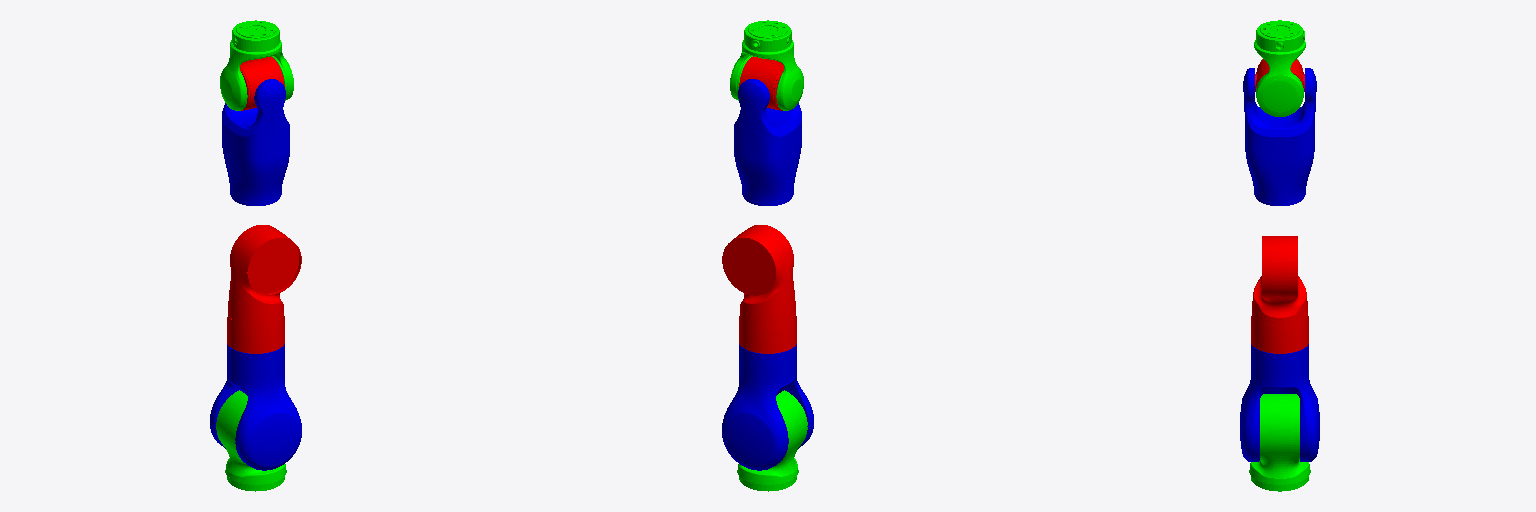
The robot description file, URDF, robot "tj_fx_right_arm":
<?xml version='1.0' encoding='utf-8'?>
<robot name="tj_fx_right_arm">
  <link name="Base_R">
    <inertial>
      <origin xyz="0.00032267 4.798E-05 0.04066353" rpy="0 0 0" />
      <mass value="1.1962" />
      <inertia ixx="0.00107329" ixy="-1.68E-06" ixz="-1.05E-05" iyy="0.00107003" iyz="-3.43E-06" izz="0.00127315" />
    </inertial>
    <visual>
      <origin xyz="0 0 0" rpy="0 0 0" />
      <geometry>
        <mesh filename="package://daimon_tj_fx_description/meshes/right/Base_R.STL" />
      </geometry>
      <material name="">
        <color rgba="1 0 0 1" />
      </material>
    </visual>
    <collision>
      <origin xyz="0 0 0" rpy="0 0 0" />
      <geometry>
        <mesh filename="package://daimon_tj_fx_description/meshes/right/Base_R.STL" />
      </geometry>
    </collision>
  </link>
  <link name="Link1_R">
    <inertial>
      <origin xyz="0.00002347 0.00557150 -0.03075998" rpy="0 0 0" />
      <mass value="1.9705" />
      <inertia ixx="0.00492293" ixy="0.00000550" ixz="0.00000193" iyy="0.00526513" iyz="0.00033232" izz="0.00188107" />
    </inertial>
    <visual>
      <origin xyz="0 0 0" rpy="0 0 0" />
      <geometry>
        <mesh filename="package://daimon_tj_fx_description/meshes/right/Link1_R.STL" />
      </geometry>
      <material name="">
        <color rgba="0 1 0 1" />
      </material>
    </visual>
    <collision>
      <origin xyz="0 0 0" rpy="0 0 0" />
      <geometry>
        <mesh filename="package://daimon_tj_fx_description/meshes/right/Link1_R.STL" />
      </geometry>
    </collision>
  </link>
  <joint name="Joint1_R" type="revolute">
    <origin xyz="0 0 0.1745" rpy="0 0 0" />
    <parent link="Base_R" />
    <child link="Link1_R" />
    <axis xyz="0 0 1" />
    <limit lower="-3.1067" upper="3.1067" effort="108" velocity="3.1416" />
  </joint>
  <link name="Link2_R">
    <inertial>
      <origin xyz="0.00013483 0.06170460 0.00950639" rpy="0 0 0" />
      <mass value="2.24398" />
      <inertia ixx="0.01194933" ixy="0.00000336" ixz="0.00000091" iyy="0.00361581" iyz="-0.00132804" izz="0.01098356" />
    </inertial>
    <visual>
      <origin xyz="0 0 0" rpy="0 0 0" />
      <geometry>
        <mesh filename="package://daimon_tj_fx_description/meshes/right/Link2_R.STL" />
      </geometry>
      <material name="">
        <color rgba="0 0 1 1" />
      </material>
    </visual>
    <collision>
      <origin xyz="0 0 0" rpy="0 0 0" />
      <geometry>
        <mesh filename="package://daimon_tj_fx_description/meshes/right/Link2_R.STL" />
      </geometry>
    </collision>
  </link>
  <joint name="Joint2_R" type="revolute">
    <origin xyz="0 0 0" rpy="1.5708 0 0" />
    <parent link="Link1_R" />
    <child link="Link2_R" />
    <axis xyz="0 0 1" />
    <limit lower="-2.0944" upper="2.0944" effort="108" velocity="3.1416" />
  </joint>
  <link name="Link3_R">
    <inertial>
      <origin xyz="0.00968562 0.00246599 -0.04627302" rpy="0 0 0" />
      <mass value="1.9242" />
      <inertia ixx="0.00718224" ixy="0.00004413" ixz="0.00089552" iyy="0.00762563" iyz="0.00022096" izz="0.00178597" />
    </inertial>
    <visual>
      <origin xyz="0 0 0" rpy="0 0 0" />
      <geometry>
        <mesh filename="package://daimon_tj_fx_description/meshes/right/Link3_R.STL" />
      </geometry>
      <material name="">
        <color rgba="1 0 0 1" />
      </material>
    </visual>
    <collision>
      <origin xyz="0 0 0" rpy="0 0 0" />
      <geometry>
        <mesh filename="package://daimon_tj_fx_description/meshes/right/Link3_R.STL" />
      </geometry>
    </collision>
  </link>
  <joint name="Joint3_R" type="revolute">
    <origin xyz="0 0.287 0" rpy="-1.5708 0 0" />
    <parent link="Link2_R" />
    <child link="Link3_R" />
    <axis xyz="0 0 1" />
    <limit lower="-3.1067" upper="3.1067" effort="66" velocity="3.1416" />
  </joint>
  <link name="Link4_R">
    <inertial>
      <origin xyz="0.00850411 -0.04718223 0.00941509" rpy="0 0 0" />
      <mass value="1.6085" />
      <inertia ixx="0.00580480" ixy="-0.00066669" ixz="-0.00012722" iyy="0.00223807" iyz="0.00070523" izz="0.00533060" />
    </inertial>
    <visual>
      <origin xyz="0 0 0" rpy="0 0 0" />
      <geometry>
        <mesh filename="package://daimon_tj_fx_description/meshes/right/Link4_R.STL" />
      </geometry>
      <material name="">
        <color rgba="0 1 0 1" />
      </material>
    </visual>
    <collision>
      <origin xyz="0 0 0" rpy="0 0 0" />
      <geometry>
        <mesh filename="package://daimon_tj_fx_description/meshes/right/Link4_R.STL" />
      </geometry>
    </collision>
  </link>
  <joint name="Joint4_R" type="revolute">
    <origin xyz="0.018 0 0" rpy="-1.5708 0 3.1416" />
    <parent link="Link3_R" />
    <child link="Link4_R" />
    <axis xyz="0 0 1" />
    <limit lower="-2.5307" upper="1.0472" effort="66" velocity="3.1416" />
  </joint>
  <link name="Link5_R">
    <inertial>
      <origin xyz="-0.00051127 -0.00101064 -0.11271739" rpy="0 0 0" />
      <mass value="2.0883" />
      <inertia ixx="0.00626603" ixy="0.00004009" ixz="-0.00005338" iyy="0.00564387" iyz="0.00006193" izz="0.00243632" />
    </inertial>
    <visual>
      <origin xyz="0 0 0" rpy="0 0 0" />
      <geometry>
        <mesh filename="package://daimon_tj_fx_description/meshes/right/Link5_R.STL" />
      </geometry>
      <material name="">
        <color rgba="0 0 1 1" />
      </material>
    </visual>
    <collision>
      <origin xyz="0 0 0" rpy="0 0 0" />
      <geometry>
        <mesh filename="package://daimon_tj_fx_description/meshes/right/Link5_R.STL" />
      </geometry>
    </collision>
  </link>
  <joint name="Joint5_R" type="revolute">
    <origin xyz="0.018 -0.314 0" rpy="-1.5708 0 3.1416" />
    <parent link="Link4_R" />
    <child link="Link5_R" />
    <axis xyz="0 0 1" />
    <limit lower="-3.1067" upper="3.1067" effort="18" velocity="3.1416" />
  </joint>
  <link name="Link6_R">
    <inertial>
      <origin xyz="0.00032659 -0.00531336 0.00030182" rpy="0 0 0" />
      <mass value="0.72496" />
      <inertia ixx="0.00046040" ixy="-0.00000189" ixz="-0.00000083" iyy="0.00051716" iyz="-0.00000346" izz="0.00042521" />
    </inertial>
    <visual>
      <origin xyz="0 0 0" rpy="0 0 0" />
      <geometry>
        <mesh filename="package://daimon_tj_fx_description/meshes/right/Link6_R.STL" />
      </geometry>
      <material name="">
        <color rgba="1 0 0 1" />
      </material>
    </visual>
    <collision>
      <origin xyz="0 0 0" rpy="0 0 0" />
      <geometry>
        <mesh filename="package://daimon_tj_fx_description/meshes/right/Link6_R.STL" />
      </geometry>
    </collision>
  </link>
  <joint name="Joint6_R" type="revolute">
    <origin xyz="0 0 0" rpy="1.5708 -1.5708 0" />
    <parent link="Link5_R" />
    <child link="Link6_R" />
    <axis xyz="0 0 1" />
    <limit lower="-1.0472" upper="1.0472" effort="18" velocity="3.1416" />
  </joint>
  <link name="Link7_R">
    <inertial>
      <origin xyz="-0.00009108 -0.03153255 0.00889371" rpy="0 0 0" />
      <mass value="0.68606" />
      <inertia ixx="0.00173687" ixy="-0.00000345" ixz="-0.00000116" iyy="0.00089035" iyz="0.00030680" izz="0.00139406" />
    </inertial>
    <visual>
      <origin xyz="0 0 0" rpy="0 0 0" />
      <geometry>
        <mesh filename="package://daimon_tj_fx_description/meshes/right/Link7_R.STL" />
      </geometry>
      <material name="">
        <color rgba="0 1 0 1" />
      </material>
    </visual>
    <collision>
      <origin xyz="0 0 0" rpy="0 0 0" />
      <geometry>
        <mesh filename="package://daimon_tj_fx_description/meshes/right/Link7_R.STL" />
      </geometry>
    </collision>
  </link>
  <joint name="Joint7_R" type="revolute">
    <origin xyz="0 0 0" rpy="1.5708 -1.5708 0" />
    <parent link="Link6_R" />
    <child link="Link7_R" />
    <axis xyz="0 0 1" />
    <limit lower="-1.5708" upper="1.5708" effort="18" velocity="3.1416" />
  </joint>
  <link name="ee_link_R" />
  <joint name="ee_fixed_joint_R" type="fixed">
    <origin xyz="0 -0.095 0" rpy="0 0 0" />
    <parent link="Link7_R" />
    <child link="ee_link_R" />
  </joint>
</robot>

--- Render facts (derived) ---
3 views of the same robot in one strip: view 1: azimuth 30°, elevation 25°; view 2: azimuth 150°, elevation 25°; view 3: azimuth 270°, elevation 25° (orthographic).
Robot: tj_fx_right_arm — 9 links, 8 joints (7 revolute, 1 fixed); root link Base_R; default pose: all joints at 0.
Links seen in each view (by area): view 1: Link3_R, Link2_R, Link5_R, Link7_R, Link1_R, Link6_R; view 2: Link3_R, Link2_R, Link5_R, Link7_R, Link1_R, Link6_R; view 3: Link5_R, Link3_R, Link2_R, Link1_R, Link7_R.
Link boxes in pixels (left/top/right/bottom): Link3_R: left=227, top=225, right=301, bottom=353; Link2_R: left=210, top=344, right=301, bottom=470; Link5_R: left=222, top=79, right=289, bottom=205; Link7_R: left=220, top=20, right=293, bottom=110; Link1_R: left=216, top=390, right=286, bottom=491; Link6_R: left=240, top=56, right=284, bottom=110; Link3_R: left=722, top=225, right=796, bottom=353; Link2_R: left=722, top=344, right=813, bottom=470; Link5_R: left=734, top=79, right=801, bottom=205; Link7_R: left=730, top=20, right=803, bottom=110; Link1_R: left=737, top=390, right=807, bottom=491; Link6_R: left=739, top=56, right=783, bottom=110; Link5_R: left=1243, top=68, right=1316, bottom=205; Link3_R: left=1251, top=236, right=1308, bottom=353; Link2_R: left=1240, top=344, right=1319, bottom=461; Link1_R: left=1249, top=394, right=1310, bottom=491; Link7_R: left=1254, top=20, right=1305, bottom=116.
Bounding box of the posed robot: 0.1261 × 0.1271 × 0.7915 m (x, y, z).
Meshes: 8 distinct files referenced, 6 mesh visuals loaded (6 binary STL); not drawn: 2 (reference not matched to a file when rendering).
